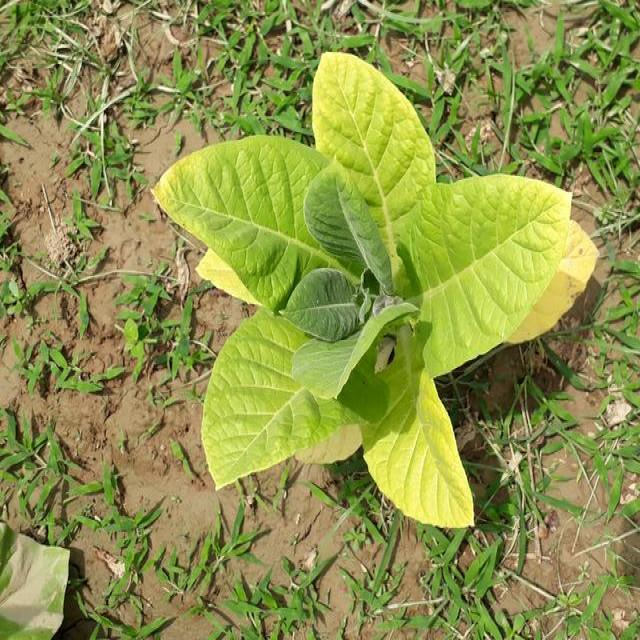crop: (147, 47, 596, 547)
